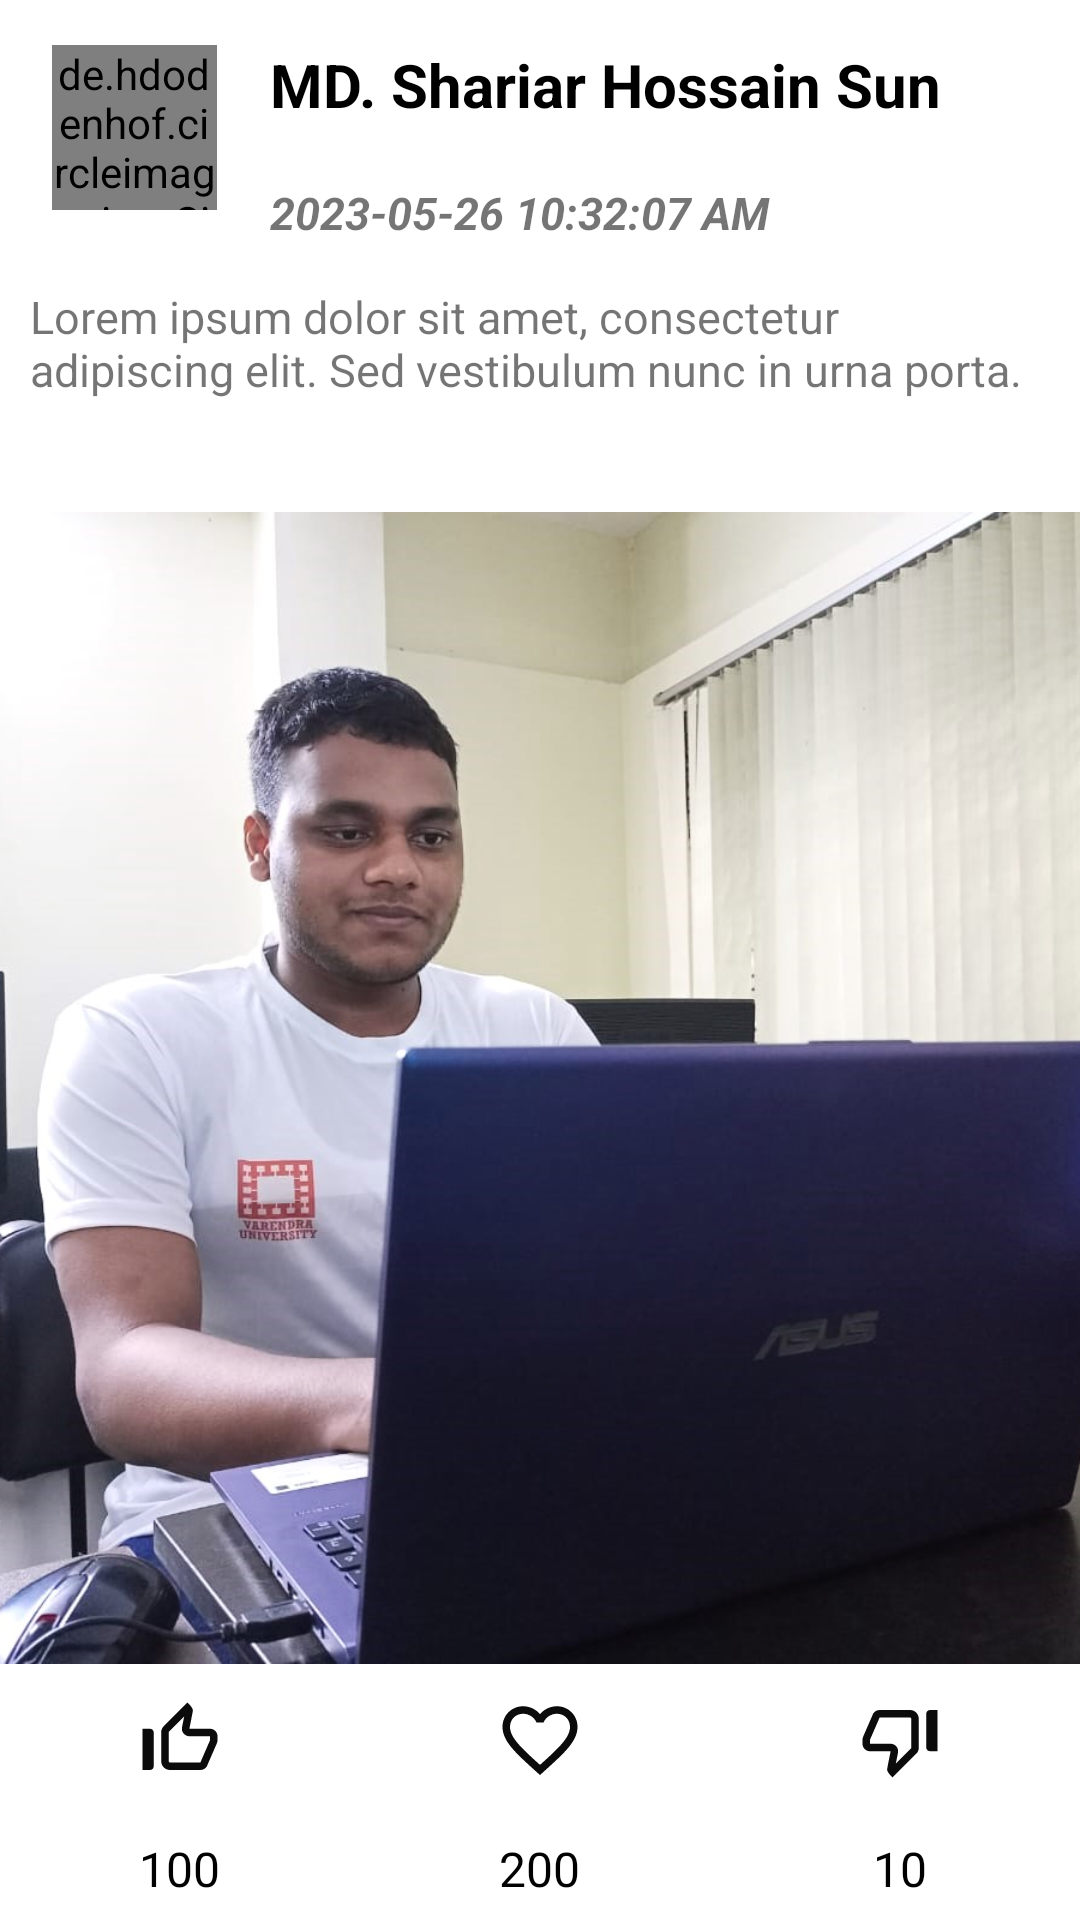

Named icons in this screenshot (1080 x 1920) and their bounding boxes, BBox(x1, y1, x2, y2):
like: BBox(142, 1702, 218, 1770)
love: BBox(502, 1706, 578, 1775)
unlike: BBox(862, 1710, 938, 1778)
